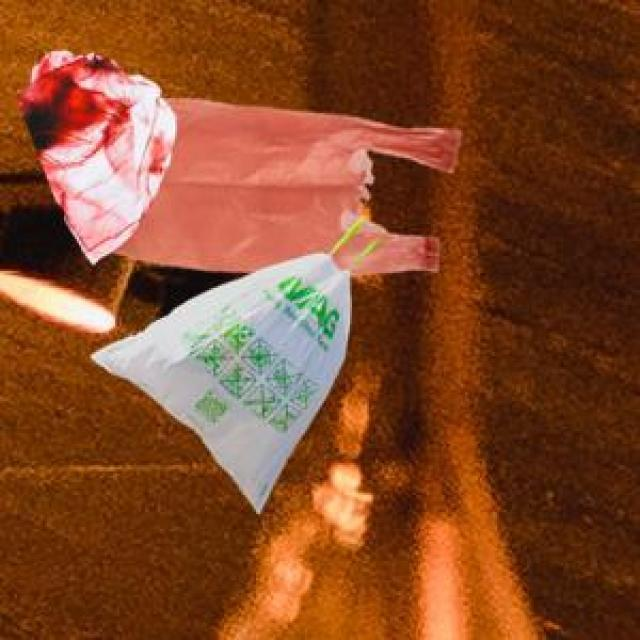waste: (22, 52, 460, 512)
